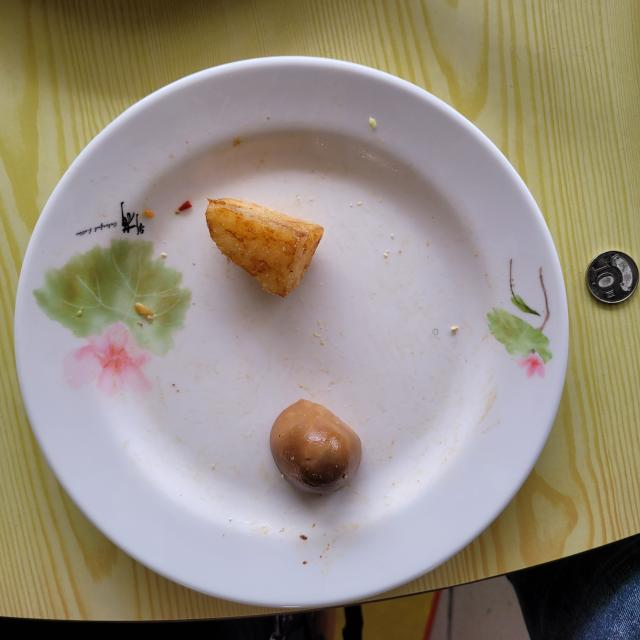coin: (586, 251, 639, 304)
fried potato: (206, 199, 324, 298)
soy egg: (270, 399, 361, 494)
